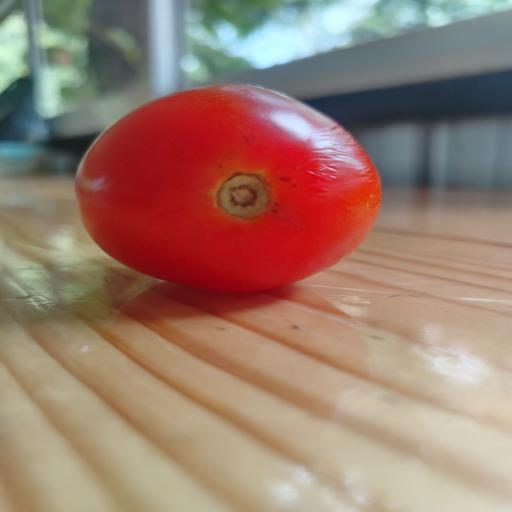spoiled: (76, 86, 381, 291)
